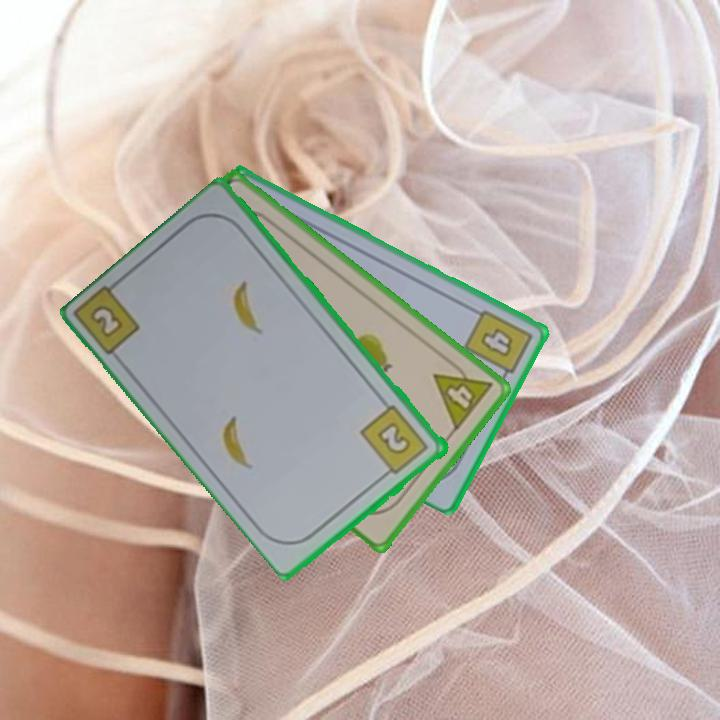2b: (357, 401, 432, 481), (90, 304, 123, 338)
4b: (460, 305, 536, 386)
4p: (429, 354, 496, 434)
